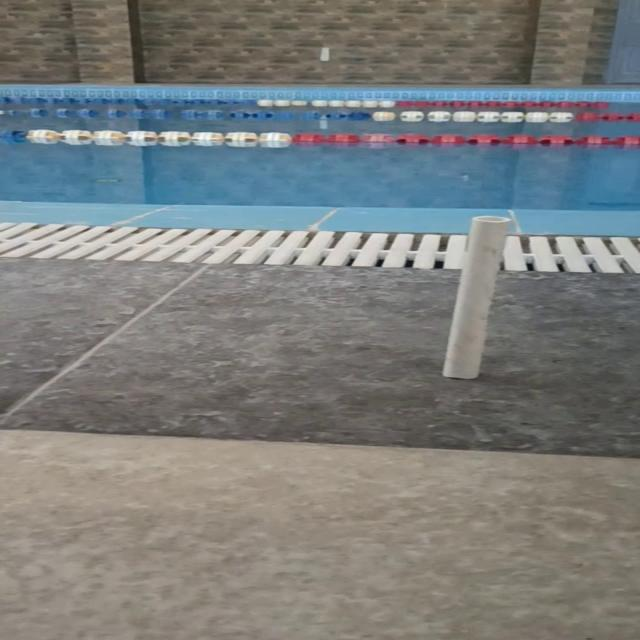Cube: (439, 214, 511, 379)
